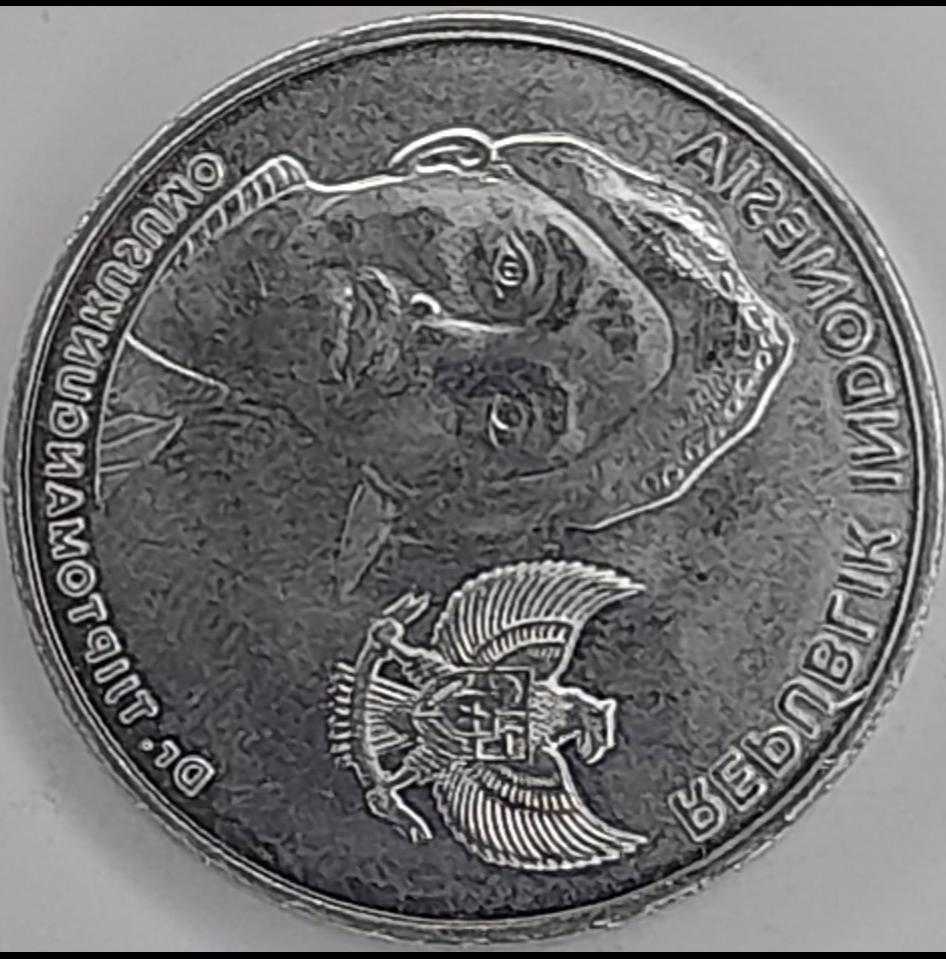coin_200_e2016: (0, 17, 946, 959)
